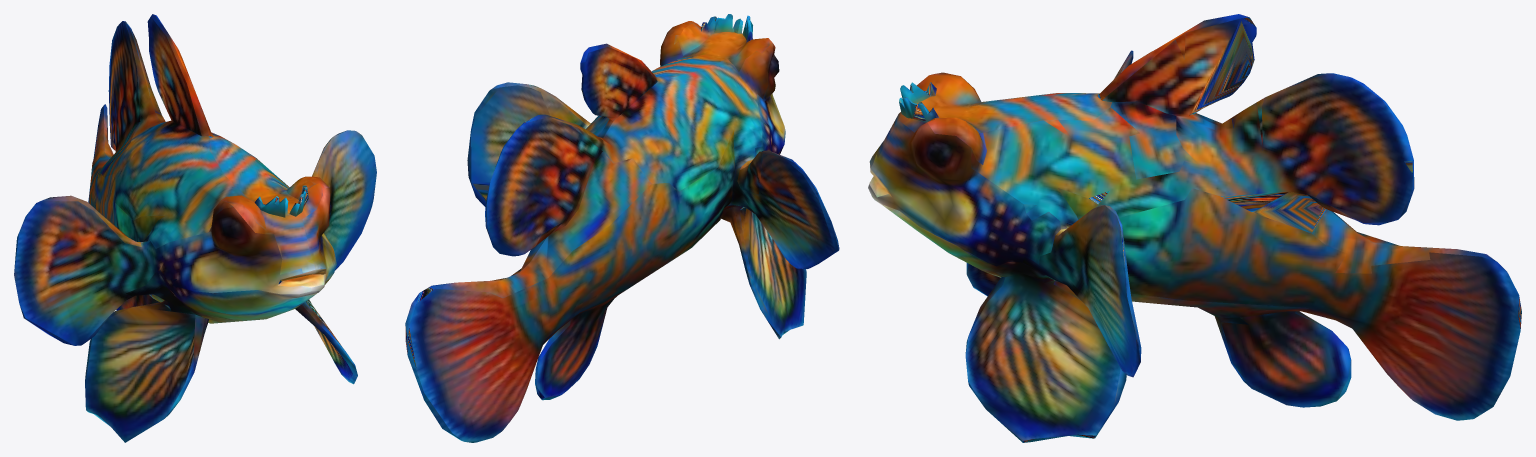
The model's file is 23_mandarinfish.glb.
3 renders of one model, left to right at view 1: azimuth 30°, elevation 25°; view 2: azimuth 150°, elevation 25°; view 3: azimuth 270°, elevation 25°, orthographic. The views are drawn at different scales.
Visible parts, largest first — view 1: geometry_0; view 2: geometry_0; view 3: geometry_0.
Boxes of the visible parts, x1,y1,x2,y2 form: geometry_0: (14, 14, 376, 442); geometry_0: (405, 14, 839, 442); geometry_0: (868, 14, 1521, 442).
Size of the model in its own units: 0.7465 by 0.6665 by 1.
1 material, 1 textured.
